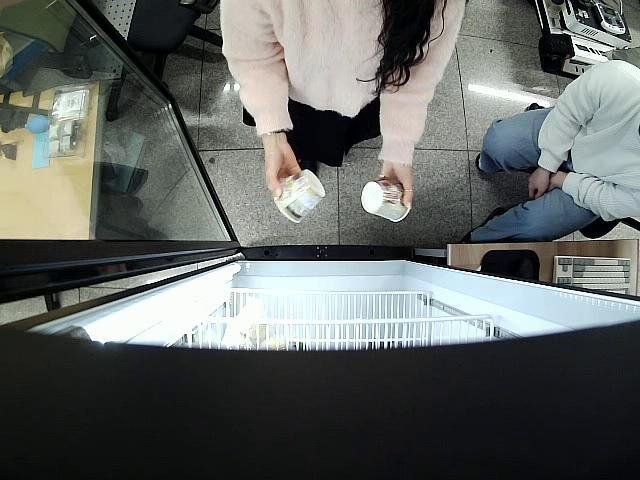04_chapagetti_S: (271, 168, 327, 226), (360, 177, 411, 225)
